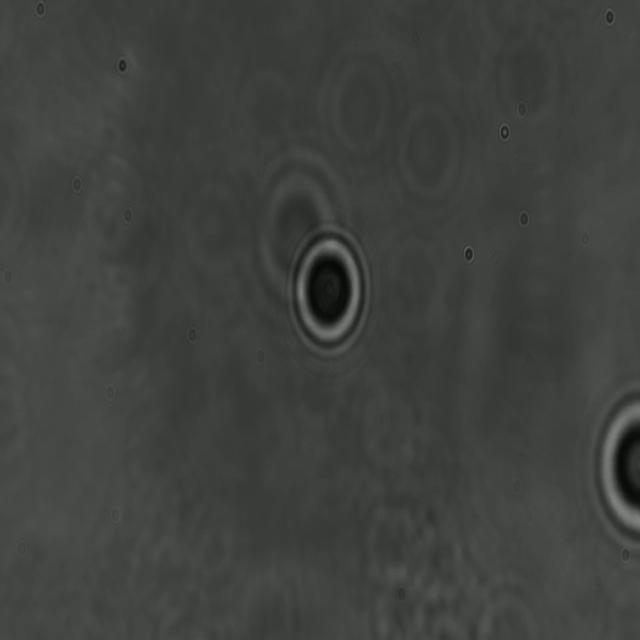DCELL: (287, 222, 373, 361)
